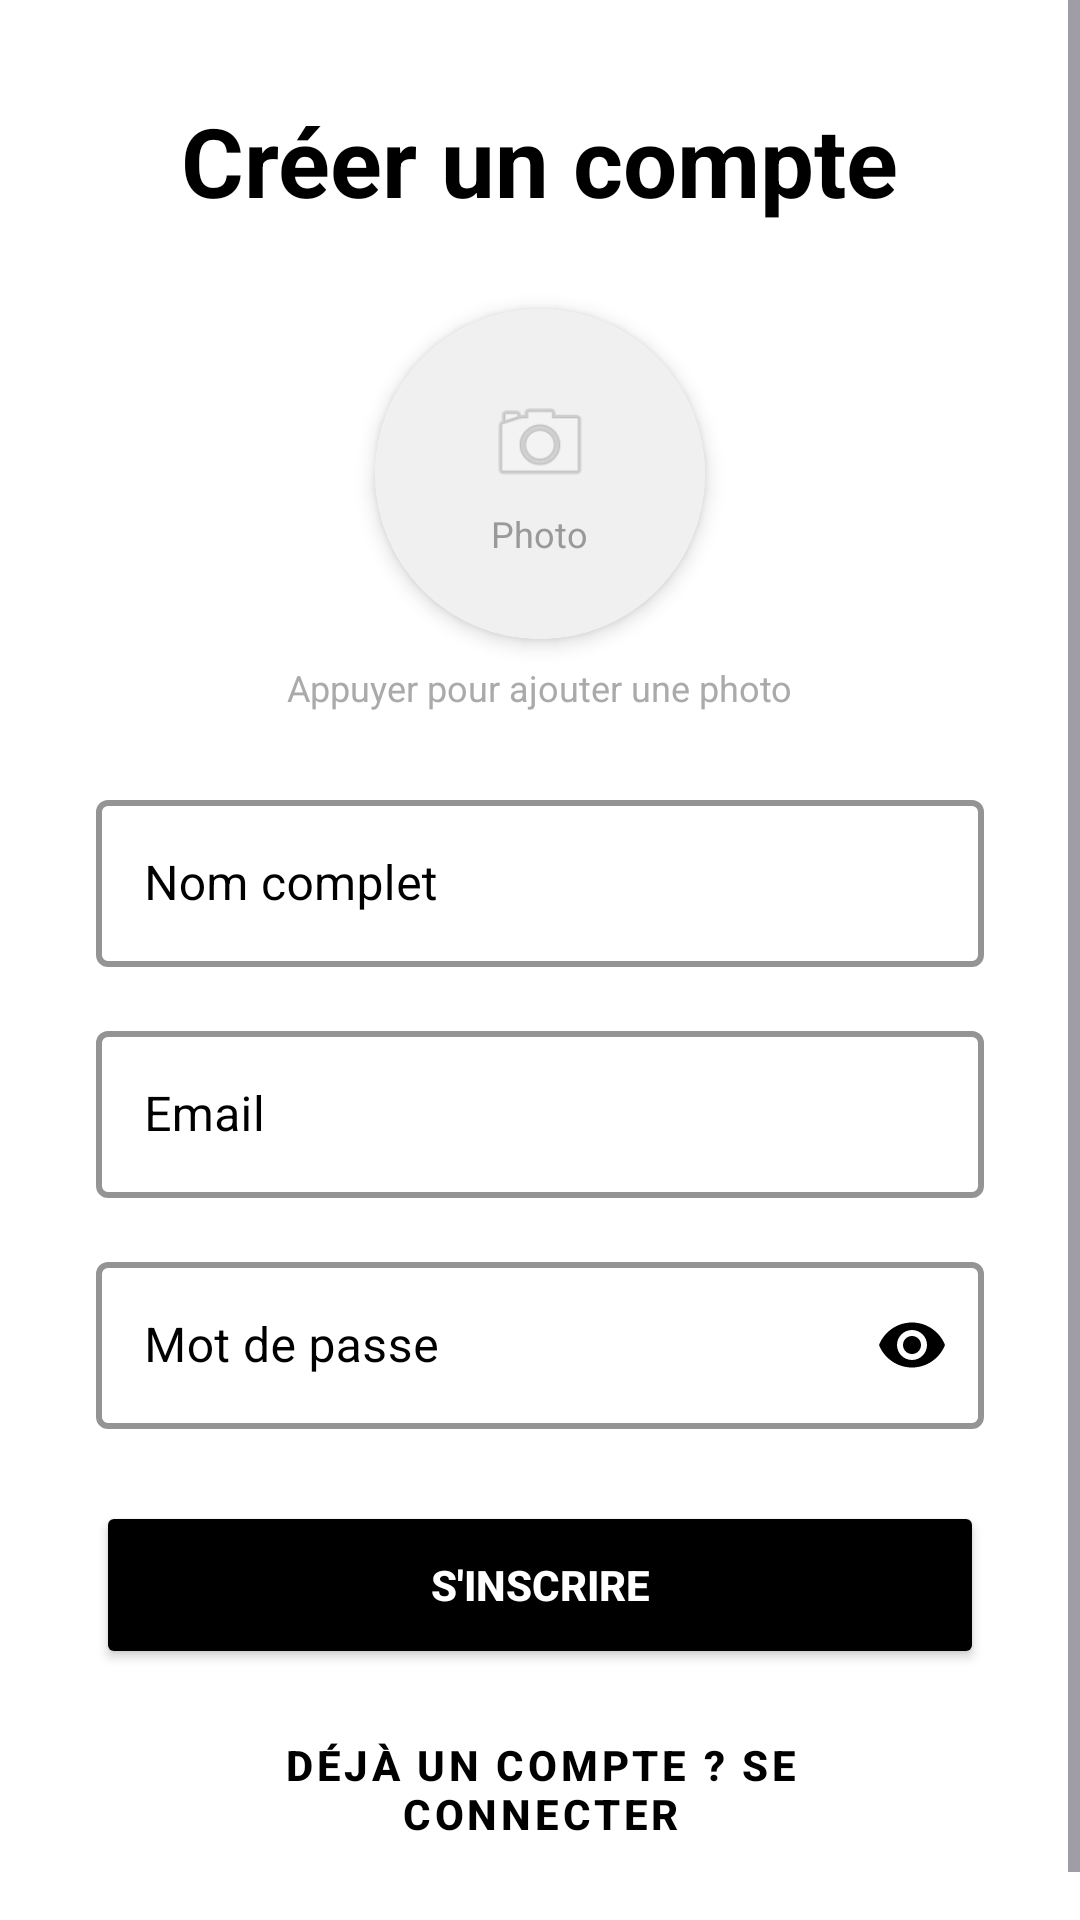

Named icons in this screenshot (1080x1920) and their bounding boxes, (x1, y1, x2, y2):
camera: (499, 409, 581, 474)
